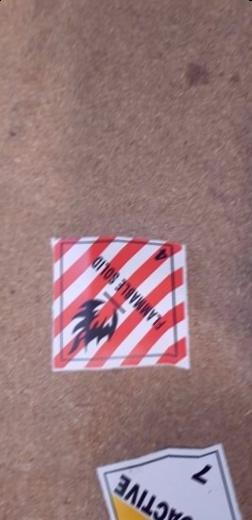flammable-solid: (48, 230, 196, 374)
radioactive: (90, 431, 251, 520)
